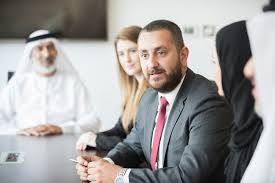middle_eastern_male: (136, 26, 183, 92)
